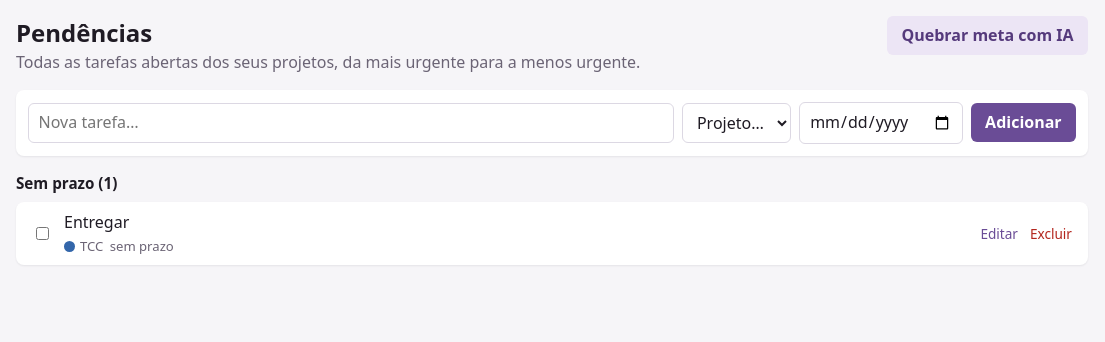
Scenario: CentralView (spec H2) › se concluir falhar, mostra o erro e recarrega a lista
The width and height of the screenshot is (1105, 342).
Click the checkbox named "Concluir \"Entregar\"".
click(42, 234)  # box [36,227,49,240]
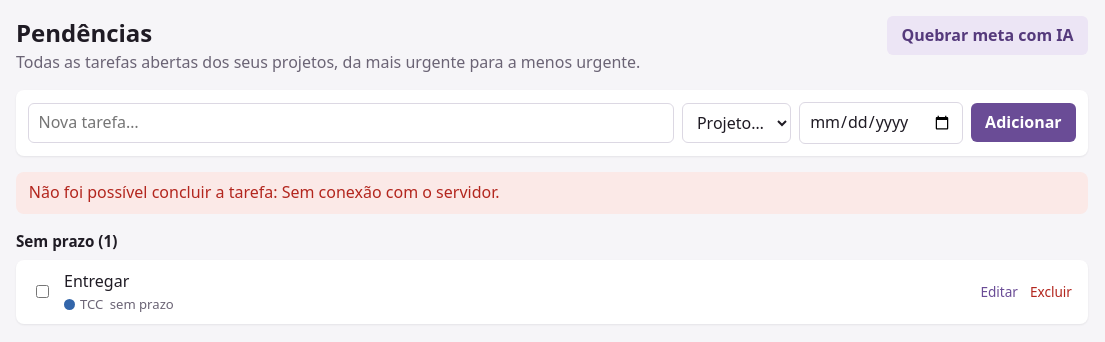
Expected: the text "Entregar" is shown, [64,270,129,292]
Now the message reads "Não foi possível concluir a tarefa: Sem conexão com o servidor.", box [29,181,500,203]
